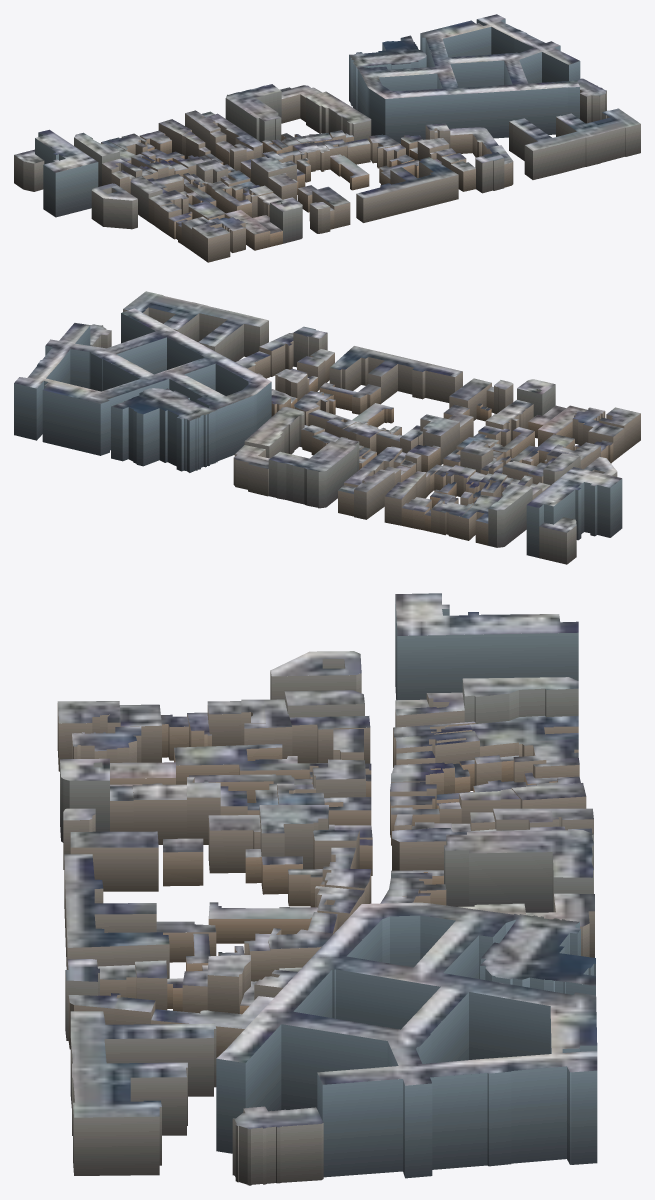
The picture shows the model from 3 angles, top to bottom: view 1: azimuth 30°, elevation 25°; view 2: azimuth 150°, elevation 25°; view 3: azimuth 270°, elevation 25°; orthographic projection. The views are drawn at different scales.
Size of the model in its own units: 437 by 37.57 by 198.
2 materials, 2 textured.
